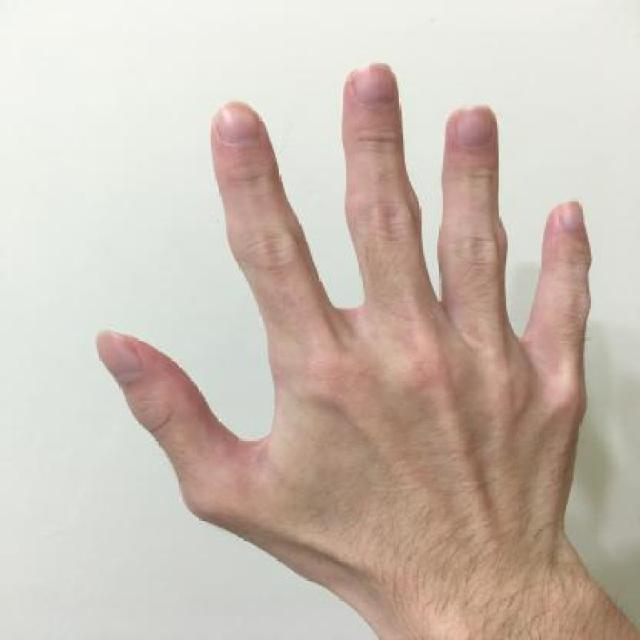no_glove: (89, 51, 620, 620)
